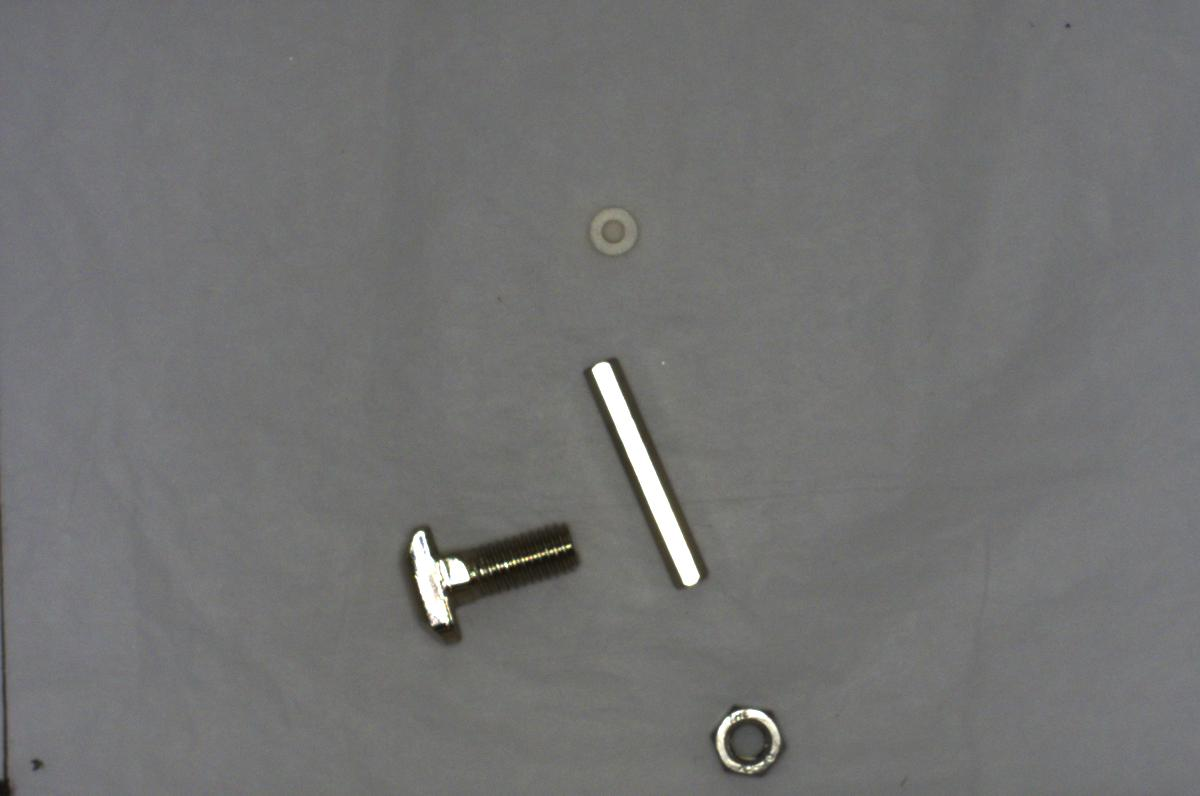Double hexagonal column: (575, 349, 724, 608)
Hexagon nut: (693, 690, 788, 790)
Plastic cushion pillar: (575, 192, 640, 260)
T-shaped screw: (387, 508, 595, 653)
